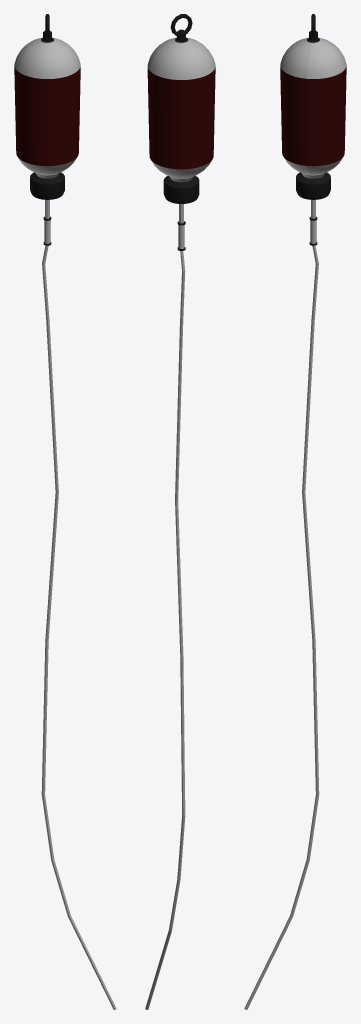
File: Blood.fbx
3 views of the same model, side by side, from view 1: azimuth 90°, elevation 25°; view 2: azimuth 210°, elevation 25°; view 3: azimuth 270°, elevation 25° (orthographic). The views are drawn at different scales.
Parts seen in each view (by area): view 1: Circle.003; view 2: Circle.003; view 3: Circle.003.
Part boxes in pixels (left/top/right/bottom): Circle.003: left=14, top=14, right=116, bottom=1009; Circle.003: left=145, top=14, right=215, bottom=1009; Circle.003: left=244, top=14, right=346, bottom=1009.
Size of the model in its own units: 1.43 by 23.52 by 2.2.
